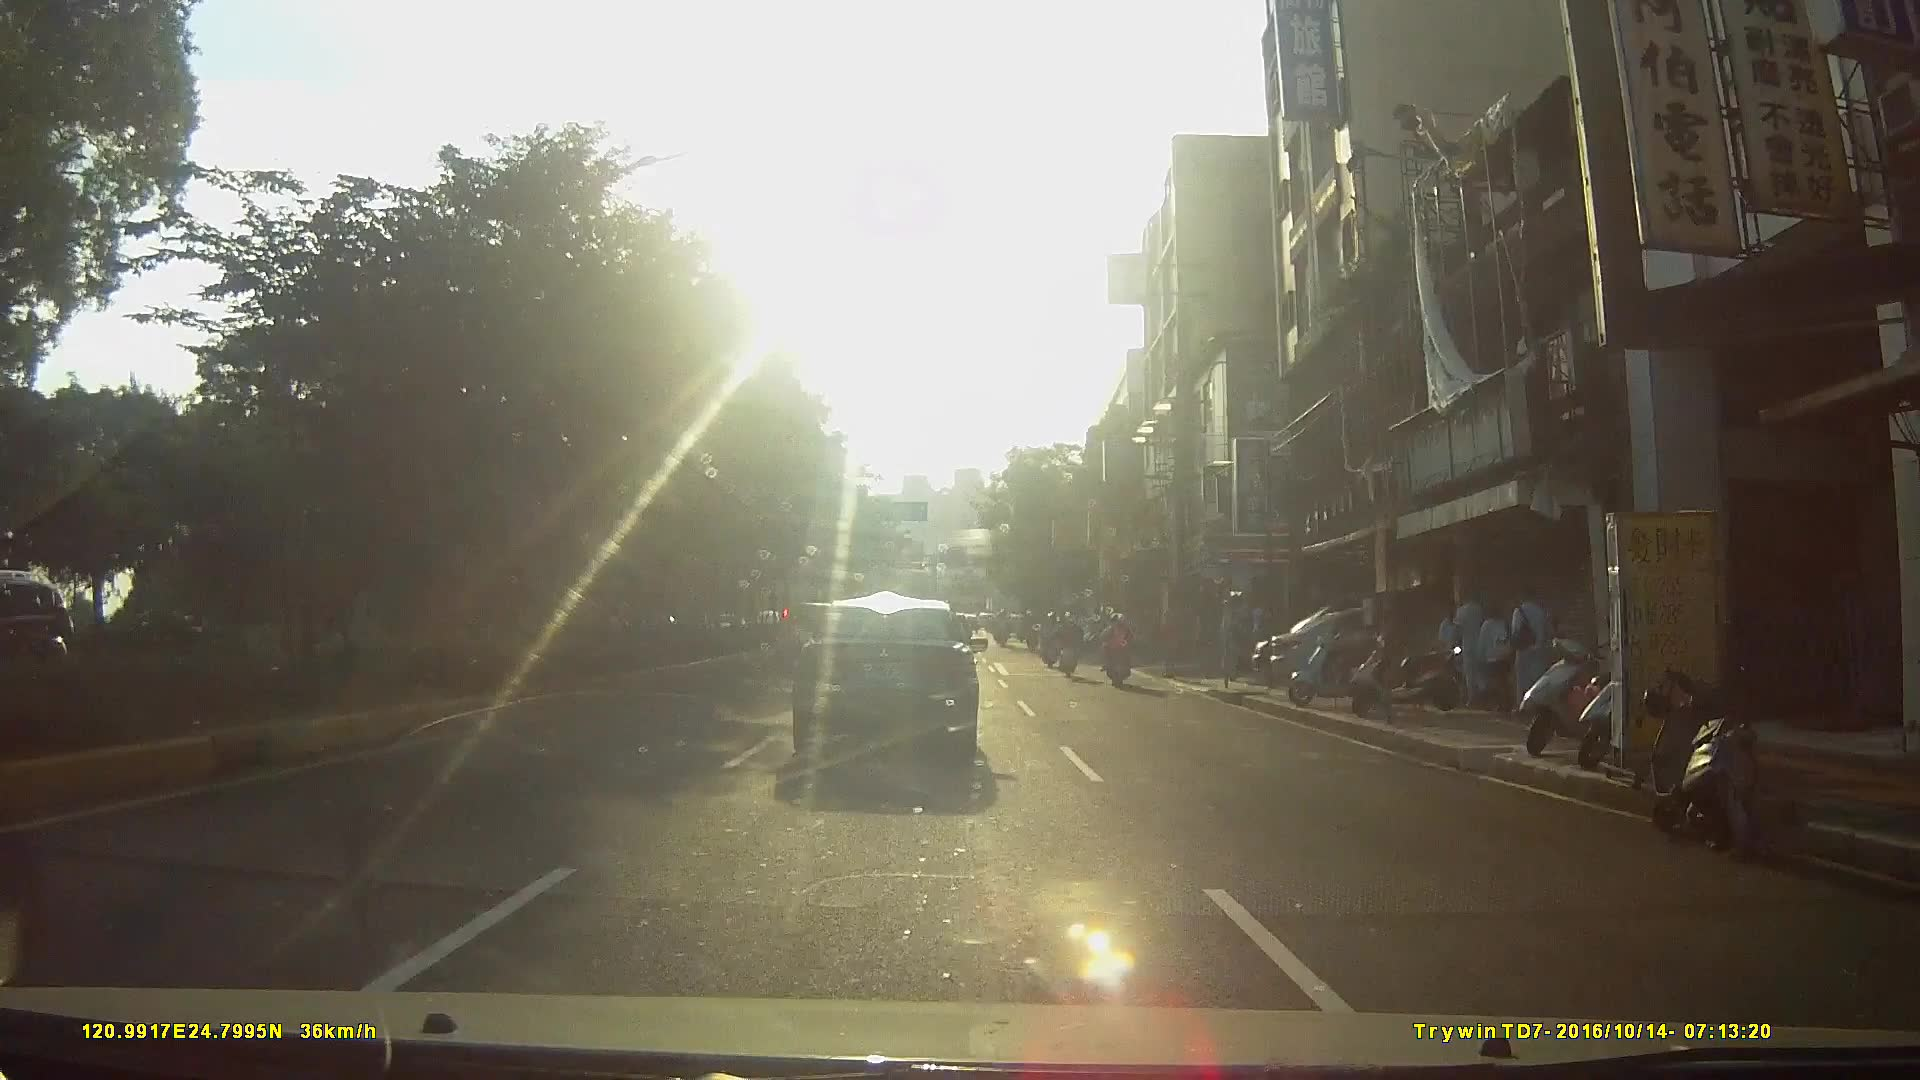pedestrian: (1509, 580, 1554, 726), (1469, 597, 1520, 716), (1455, 579, 1493, 712)
rider: (1104, 613, 1138, 692), (1056, 612, 1084, 679), (1041, 611, 1062, 670)
vehicle: (789, 598, 1004, 787), (1, 576, 86, 706)
